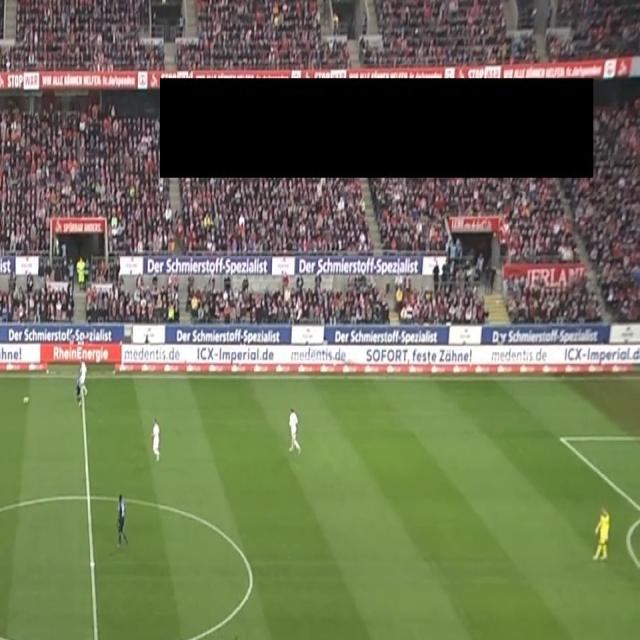ball: (22, 394, 29, 406)
